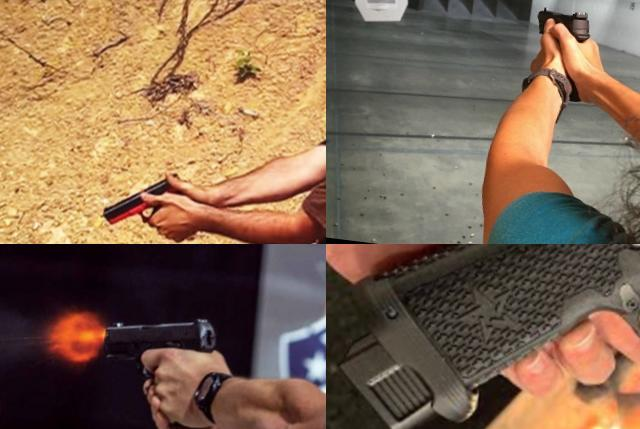handgun: (326, 244, 640, 429), (89, 301, 232, 429), (525, 3, 598, 106), (98, 162, 188, 234)
